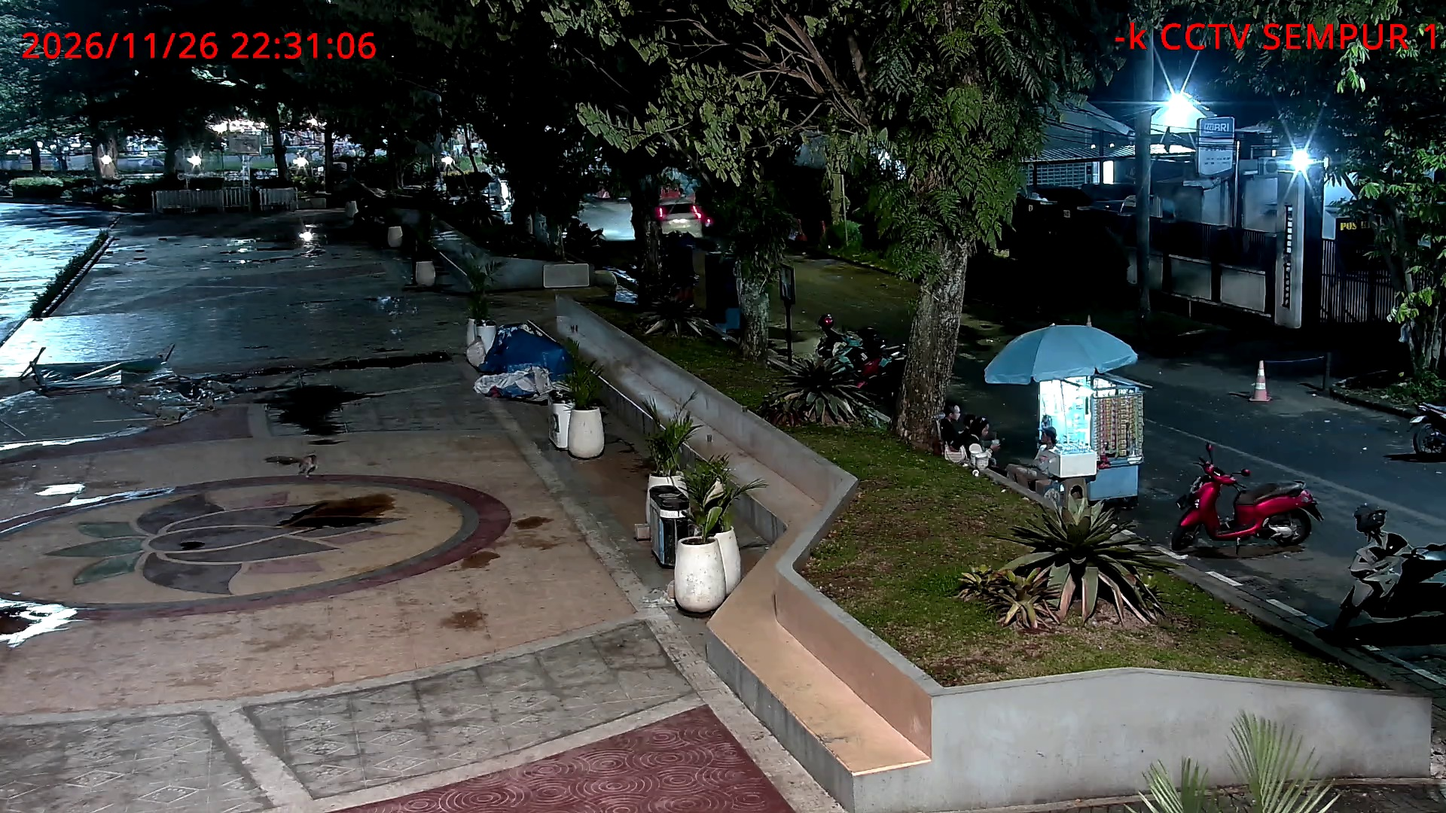Gerobak: (1030, 363, 1151, 511)
